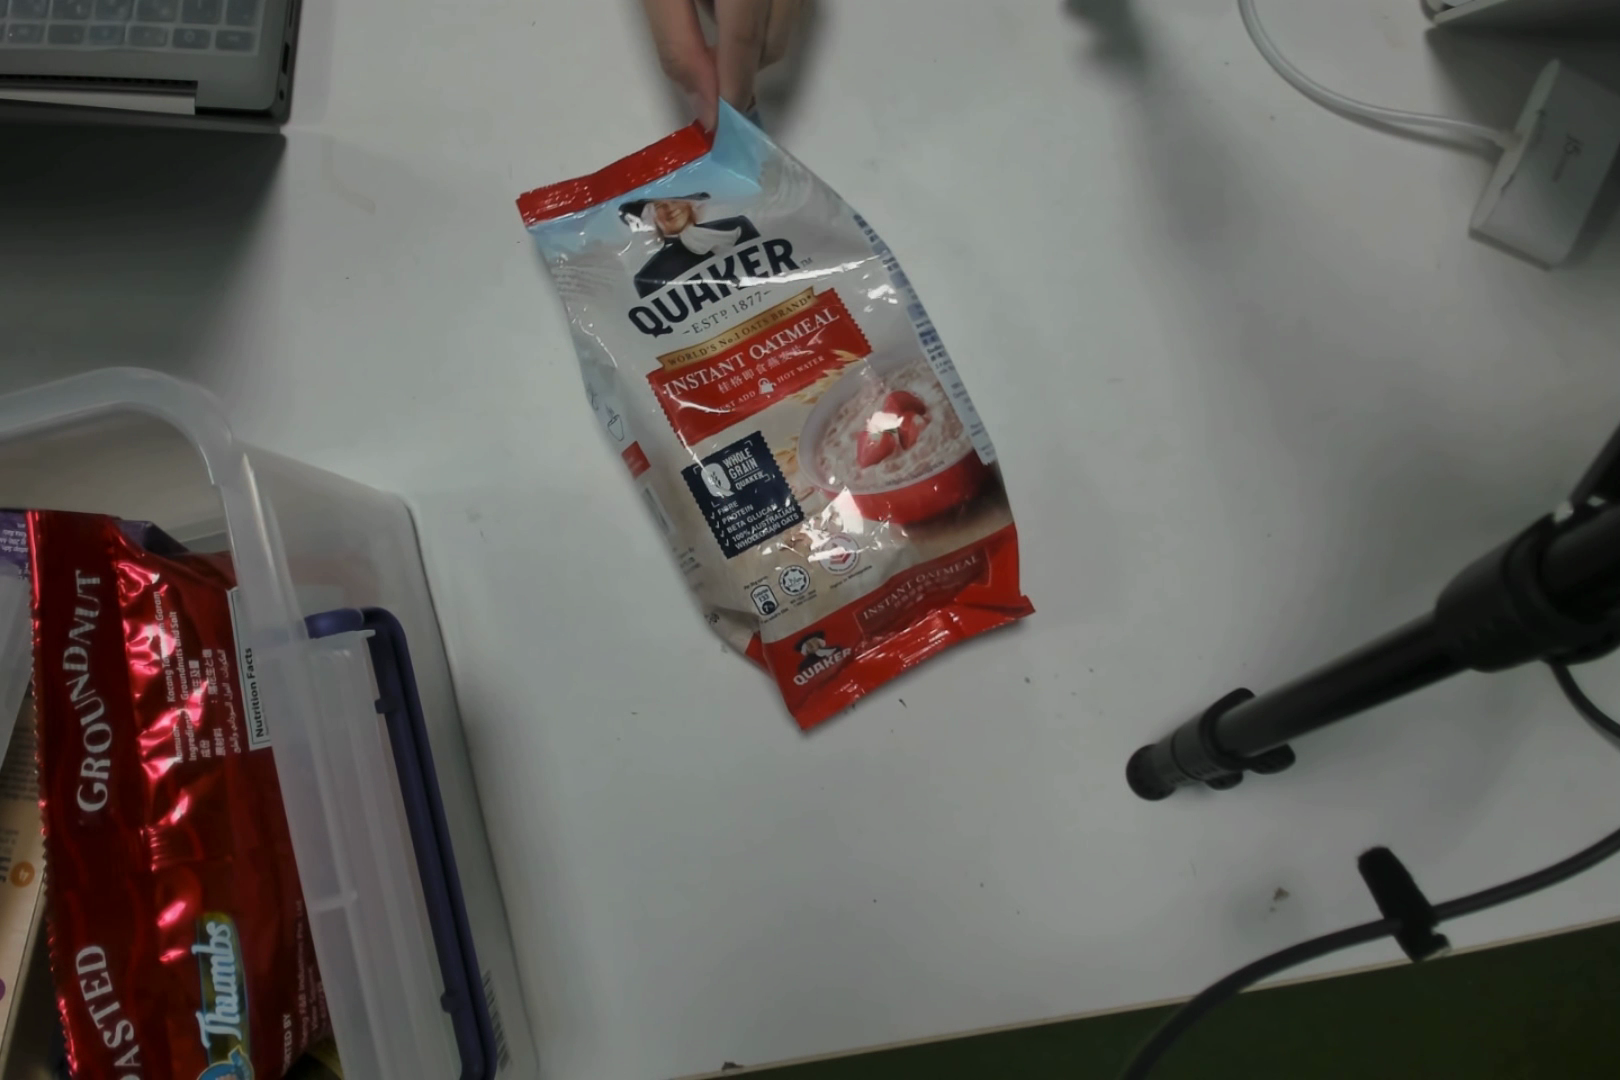RolledOatsInstantOatmeal_400-499g_Halal_Healthy: (586, 143, 1034, 697)
